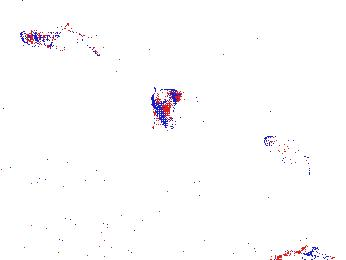redtail glassfish: (18, 20, 107, 62), (261, 133, 321, 185), (147, 85, 185, 123)
